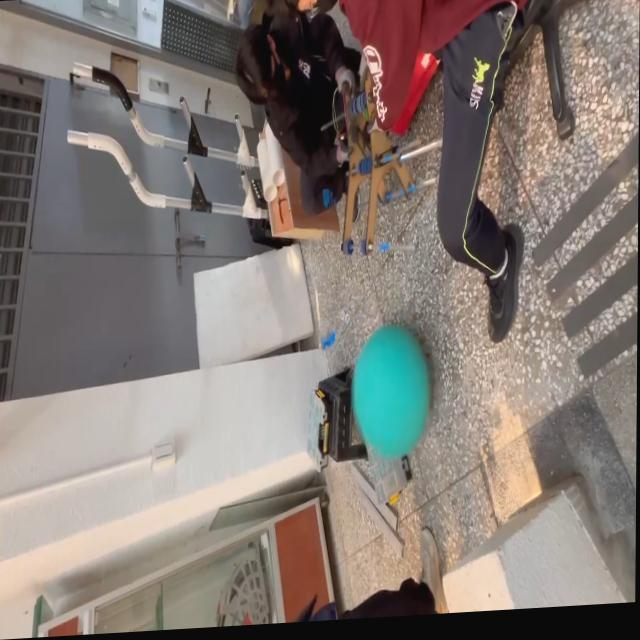ALGAE: (349, 320, 432, 465)
